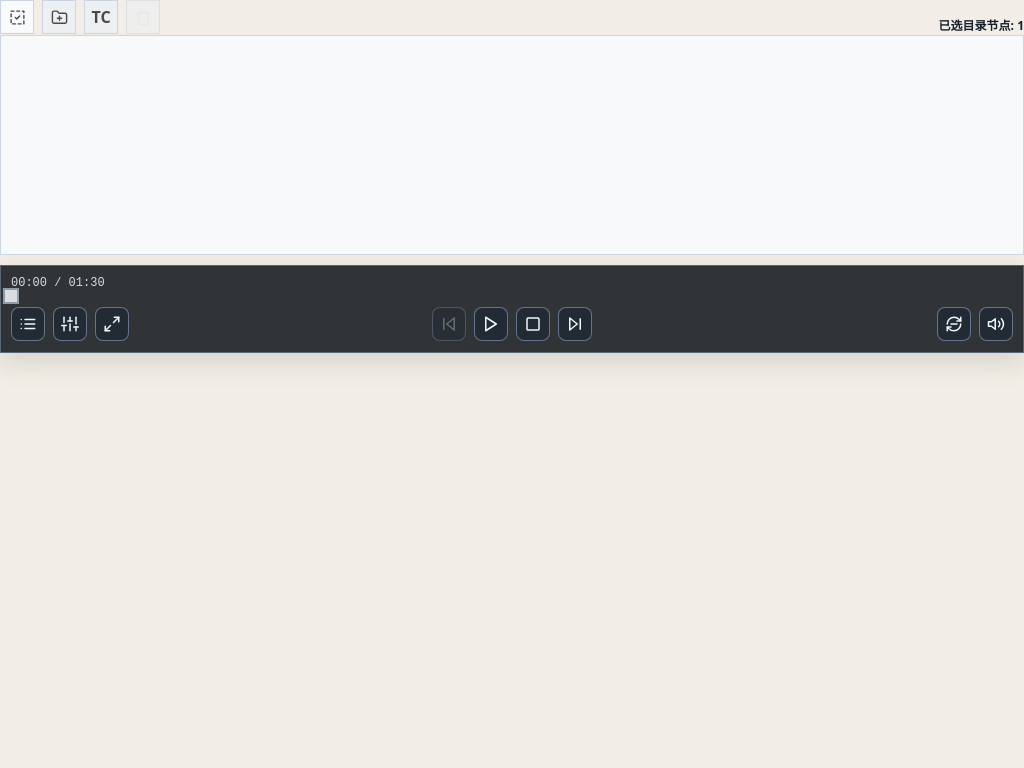
Test: MusicMainSection › 转码面板应展示默认输出目录提示
Click the button "TC": (101, 17) [84, 0, 118, 34]
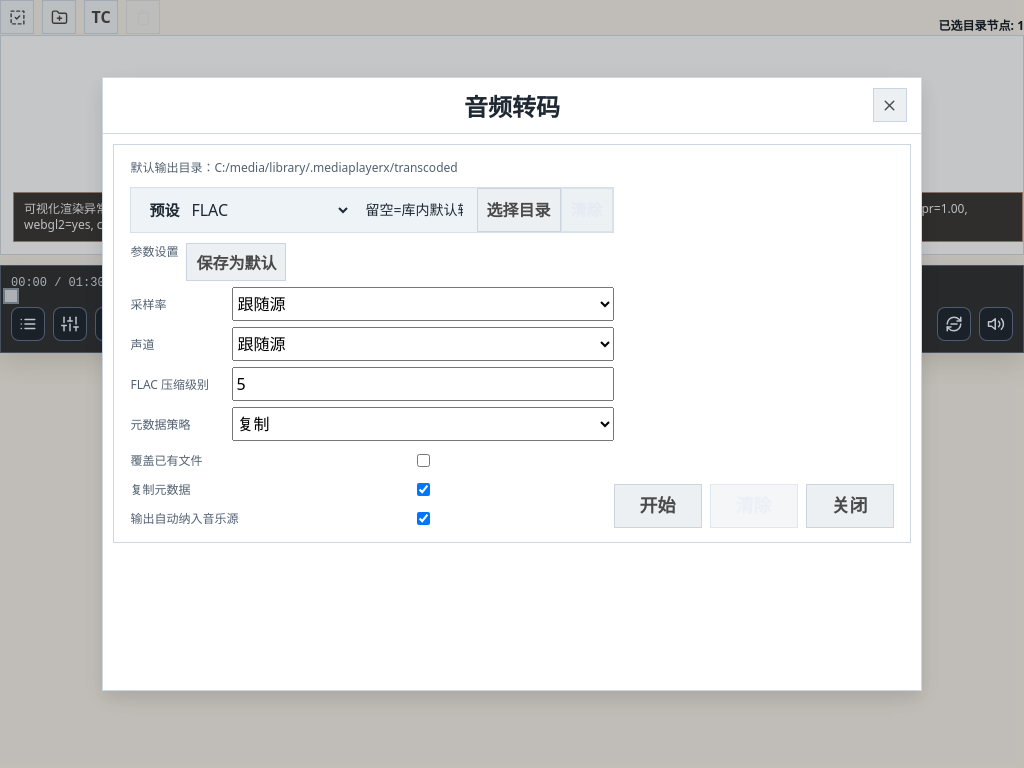
Result: the text "默认输出目录：C:/media/library/.mediaplayerx/transcoded" is shown at [130, 159, 458, 176]
